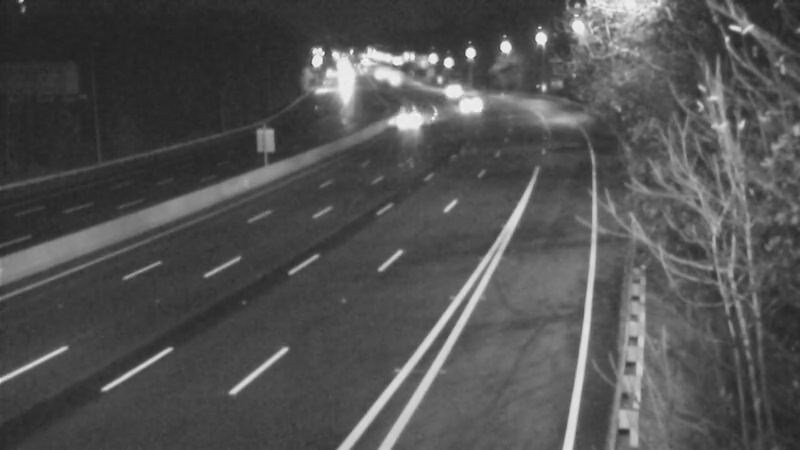vehicle: (354, 53, 404, 103), (367, 58, 417, 108), (423, 64, 473, 114), (446, 80, 496, 130), (390, 96, 440, 146), (318, 60, 368, 110)
